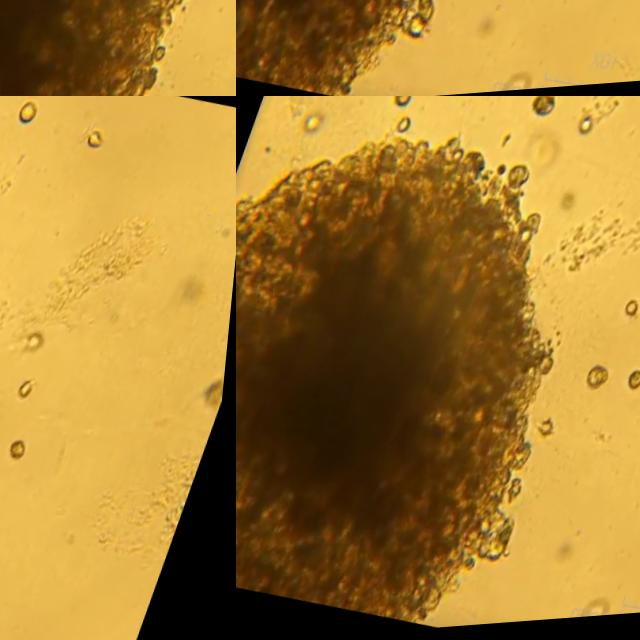cell: (209, 390, 231, 419), (593, 373, 617, 396), (534, 100, 557, 120), (18, 109, 38, 129), (29, 340, 50, 357), (89, 137, 107, 154), (582, 119, 596, 139), (17, 447, 32, 465), (25, 386, 39, 404), (308, 118, 324, 133), (398, 119, 412, 135), (394, 96, 414, 107), (547, 427, 563, 439), (629, 309, 640, 321), (635, 380, 640, 396)
tumor_mass: (236, 143, 562, 627), (236, 0, 446, 96)
